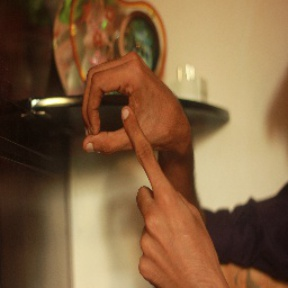Q: (78, 53, 195, 222)
